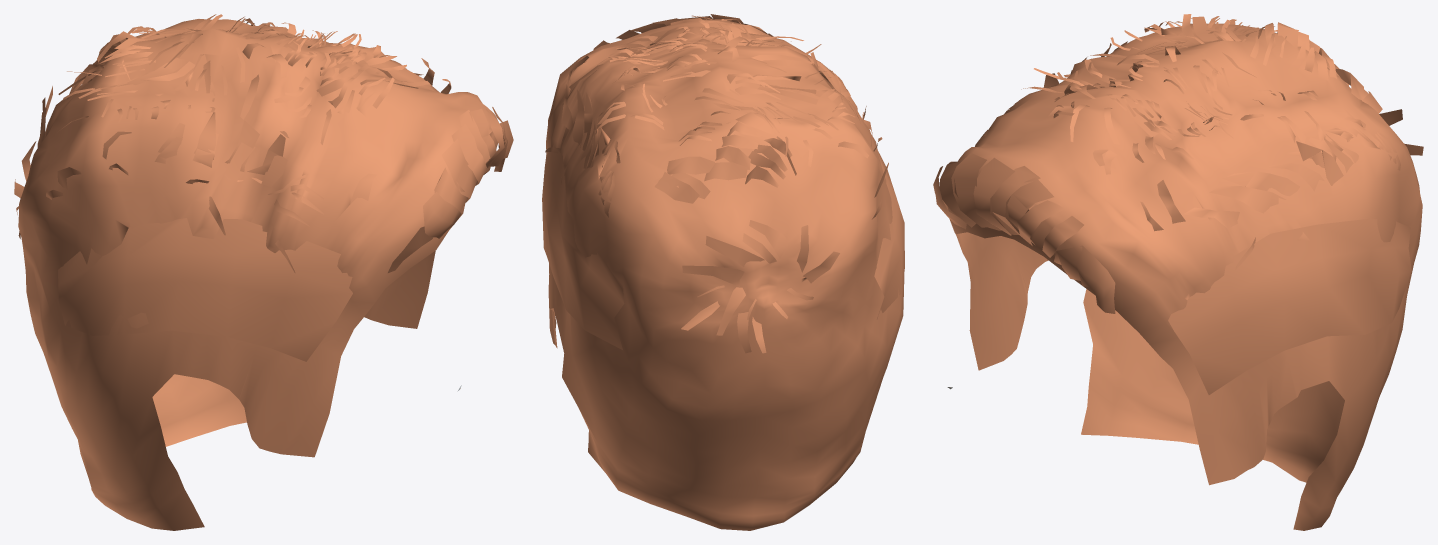
Rendered from hair.dae.
3 views of the same model, side by side, from view 1: azimuth 30°, elevation 25°; view 2: azimuth 150°, elevation 25°; view 3: azimuth 270°, elevation 25° (orthographic). The views are drawn at different scales.
Parts seen in each view (by area): view 1: group_6, group_6_046, group_6_027, group_6_026, group_6_225, group_6_028; view 2: group_6, group_6_050, group_6_047, group_6_048, group_6_016, group_6_013, group_6_348, group_6_014, group_6_017, group_6_261, group_6_058; view 3: group_6, group_6_050, group_6_030, group_6_027, group_6_026, group_6_236, group_6_058, group_6_029, group_6_045, group_6_028, group_6_041, group_6_056 (+1 smaller).
Part boxes in pixels (<box>): group_6: <box>18,19,502,530</box>; group_6_046: <box>423,192,461,238</box>; group_6_027: <box>441,138,477,202</box>; group_6_026: <box>451,124,486,185</box>; group_6_225: <box>192,112,218,167</box>; group_6_028: <box>434,167,467,211</box>; group_6: <box>546,19,904,530</box>; group_6_050: <box>542,145,624,349</box>; group_6_047: <box>654,172,699,203</box>; group_6_048: <box>667,156,714,174</box>; group_6_016: <box>682,265,744,286</box>; group_6_013: <box>705,236,764,266</box>; group_6_348: <box>704,162,747,181</box>; group_6_014: <box>749,220,787,258</box>; group_6_017: <box>716,287,745,335</box>; group_6_261: <box>715,146,750,169</box>; group_6_058: <box>572,90,584,147</box>; group_6: <box>947,23,1422,530</box>; group_6_050: <box>1168,218,1411,394</box>; group_6_030: <box>1054,245,1115,313</box>; group_6_027: <box>951,153,1001,230</box>; group_6_026: <box>973,157,1014,235</box>; group_6_236: <box>1222,171,1299,196</box>; group_6_058: <box>1209,186,1286,213</box>; group_6_029: <box>993,200,1064,245</box>; group_6_045: <box>992,166,1040,217</box>; group_6_028: <box>939,161,976,227</box>; group_6_041: <box>1042,216,1083,257</box>; group_6_056: <box>1296,141,1343,185</box>.
Bounding box in the file's own units: 0.1944 × 0.2008 × 0.2148.
